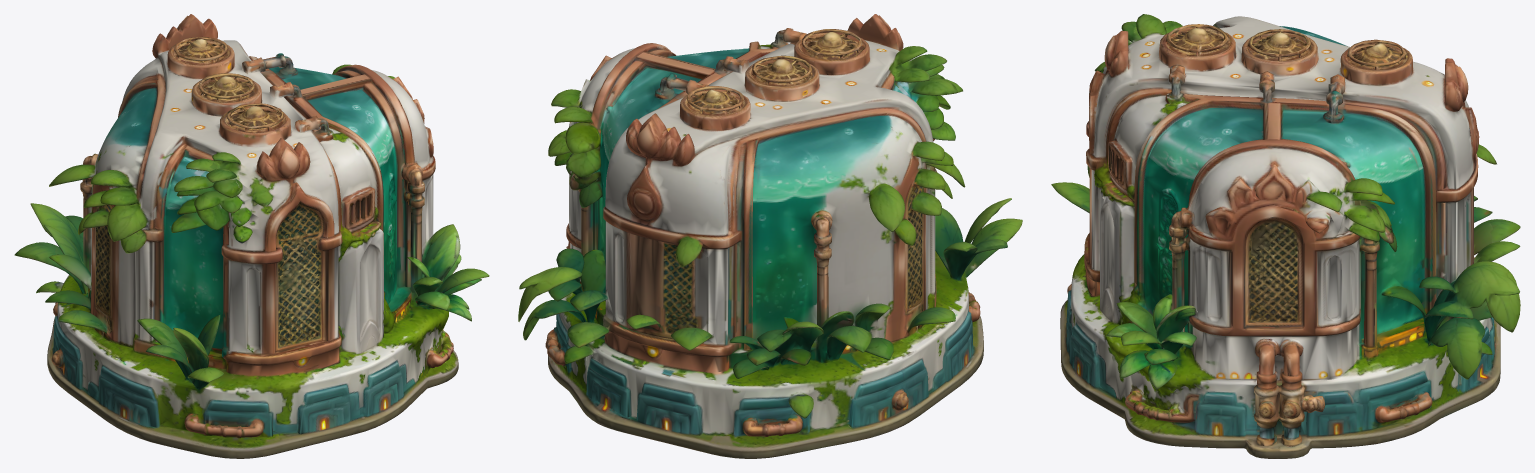
File: bio_filter.glb
3 renders of one model, left to right at view 1: azimuth 30°, elevation 25°; view 2: azimuth 150°, elevation 25°; view 3: azimuth 270°, elevation 25°, orthographic. The views are drawn at different scales.
Parts seen in each view (by area): view 1: node_0; view 2: node_0; view 3: node_0.
Boxes of the visible parts, x1,y1,x2,y2 form: node_0: (14, 14, 489, 458); node_0: (518, 14, 1022, 458); node_0: (1051, 14, 1520, 458).
Bounding box in the file's own units: 0.9146 × 0.6869 × 0.9191.
1 material, 1 textured.
